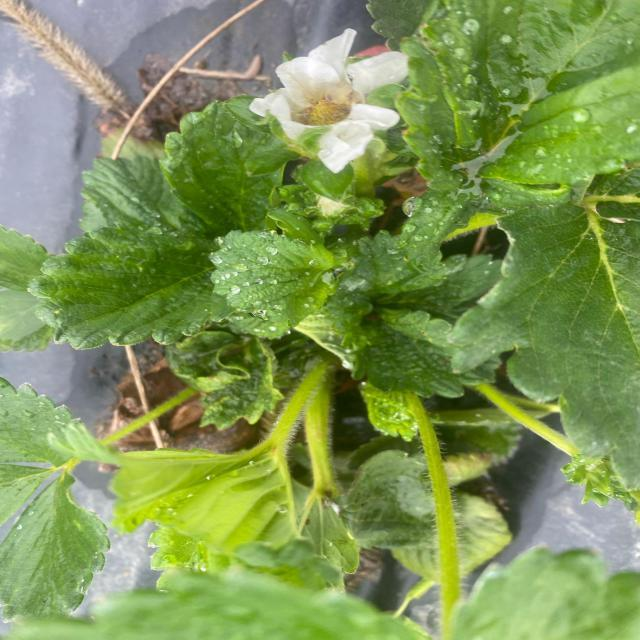flower: (250, 25, 430, 178)
